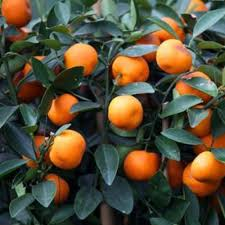orange: (55, 39, 101, 81), (48, 129, 88, 169), (109, 49, 148, 88), (156, 34, 194, 74), (104, 95, 147, 130), (123, 145, 163, 178), (45, 90, 83, 123)
